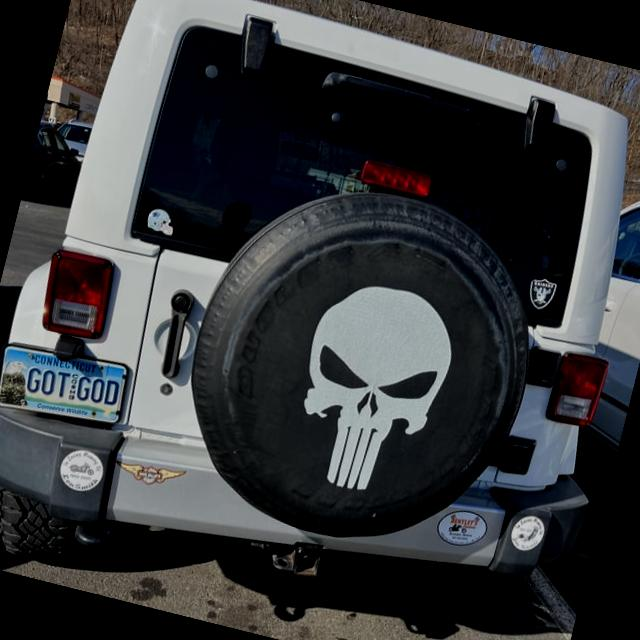LicensePlate: (0, 341, 134, 420)
